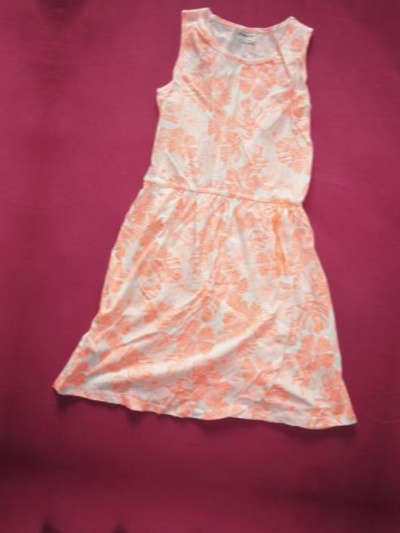Dress: (42, 0, 400, 445), (0, 0, 32, 398), (0, 523, 340, 533)
